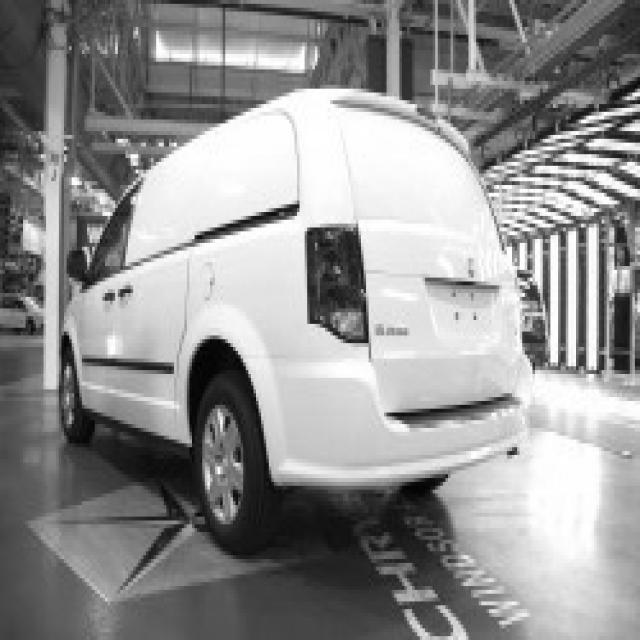car: (56, 85, 532, 551), (0, 289, 44, 332)
